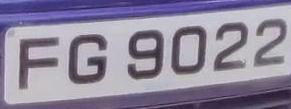0: (167, 21, 215, 80)
2: (211, 15, 254, 76), (250, 12, 290, 72)
9: (124, 24, 171, 84)
F: (10, 27, 68, 96)
G: (64, 27, 114, 93)
